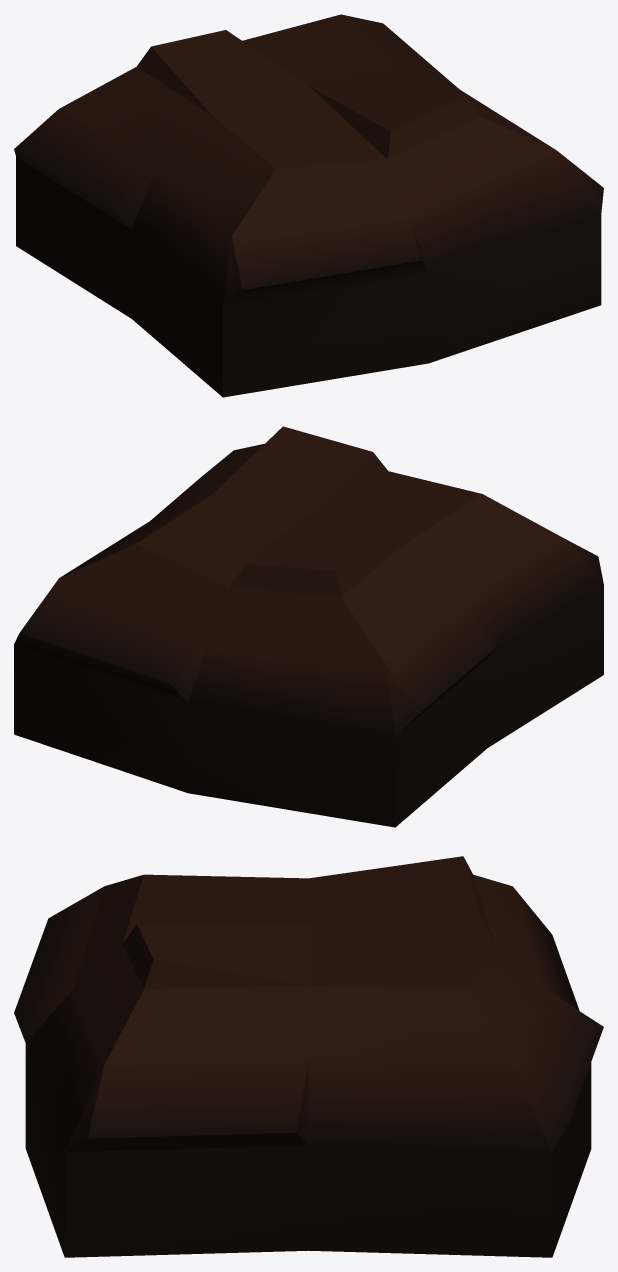
The model's file is Crop1x1.fbx.
3 views of the same model, one above another, from view 1: azimuth 30°, elevation 25°; view 2: azimuth 150°, elevation 25°; view 3: azimuth 270°, elevation 25° (orthographic). The views are drawn at different scales.
Visible parts, largest first — view 1: Crop1x1; view 2: Crop1x1; view 3: Crop1x1.
Part boxes in pixels (x1,y1,x2,y2): Crop1x1: (14, 14, 603, 397); Crop1x1: (14, 426, 603, 827); Crop1x1: (14, 856, 603, 1257).
Size of the model in its own units: 208 by 102 by 224.
